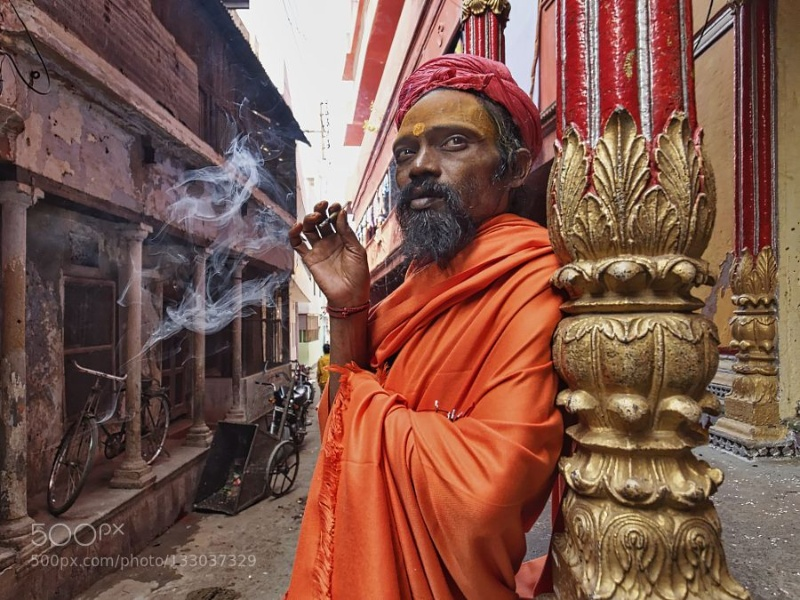smoke: (173, 164, 284, 334)
